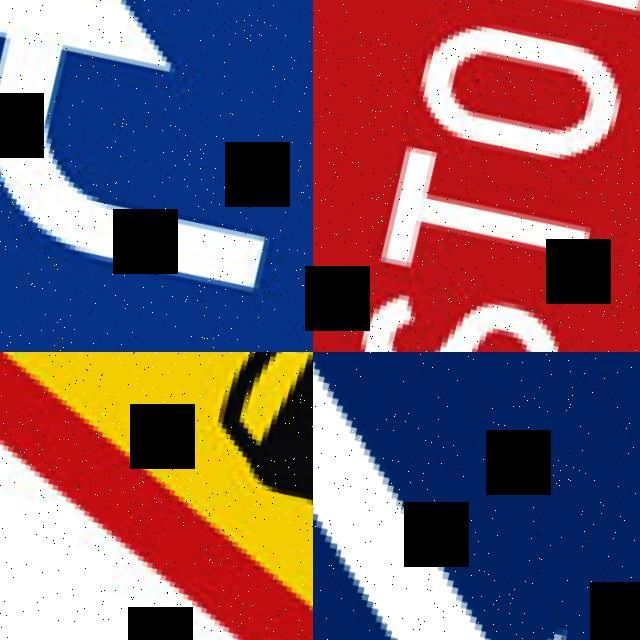94: (0, 0, 313, 352)
Keep left: (313, 352, 640, 640)
Slippery road: (0, 352, 313, 640)
Stop: (313, 0, 640, 352)
